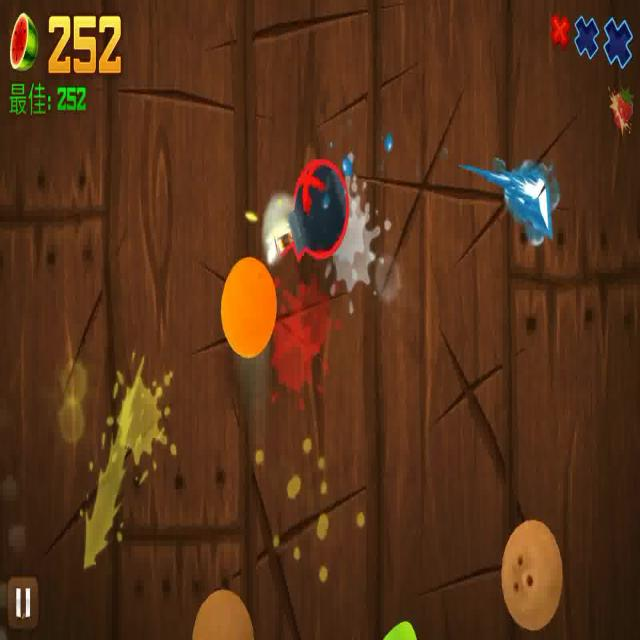bomb: (274, 158, 350, 262)
fruit: (500, 520, 562, 632), (219, 254, 277, 362), (189, 588, 257, 640)
